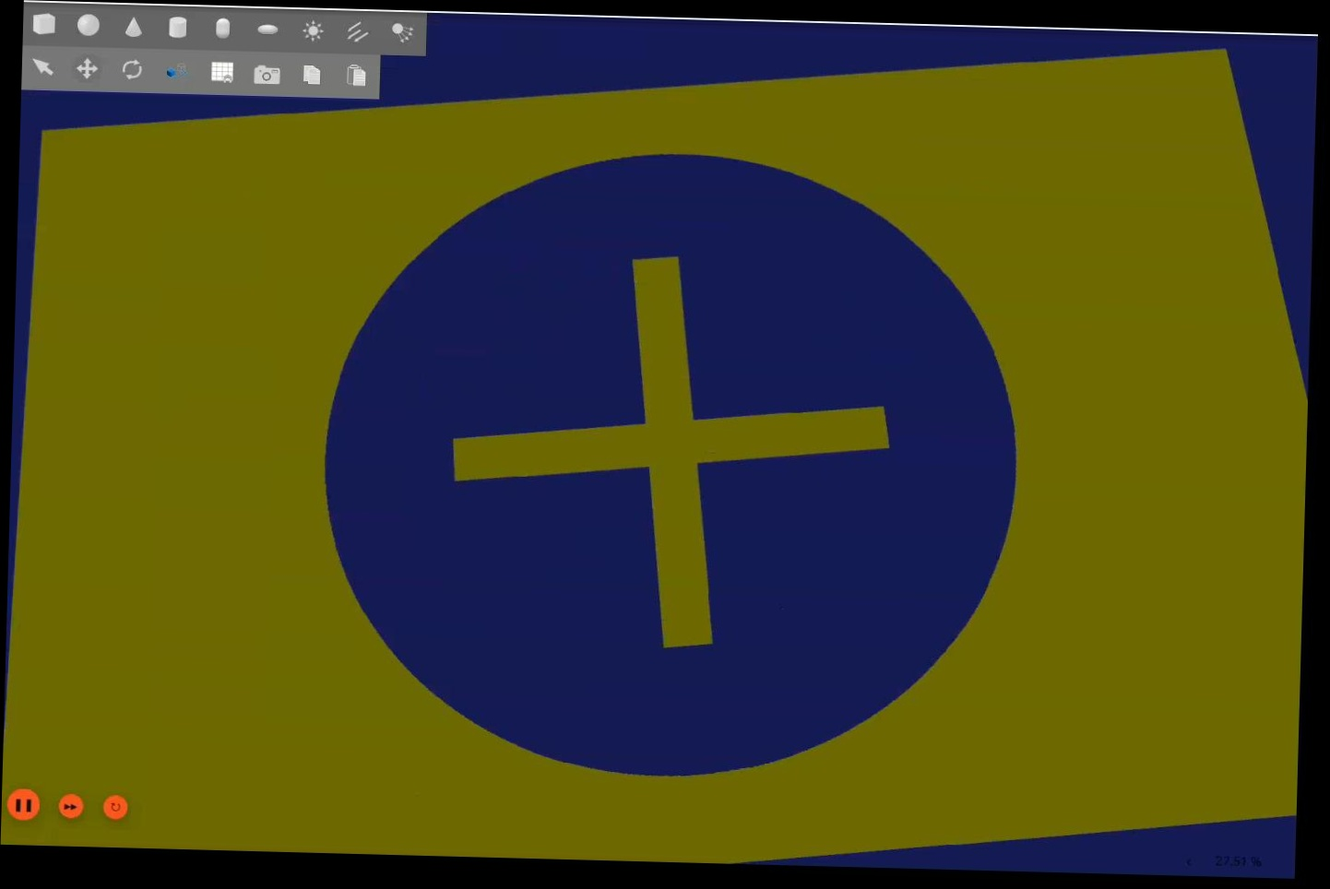large_base: (0, 5, 1321, 889)
